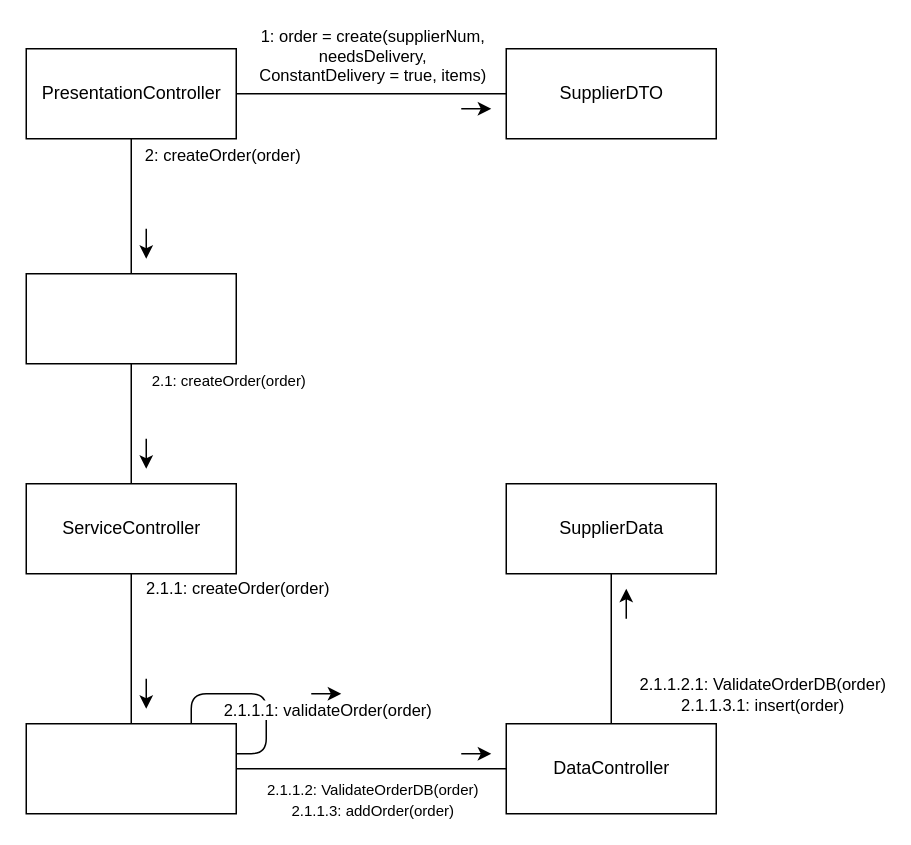
The diagram is 911 pixels wide and 845 high, and some of its shapes have lost their labels. The shapes that lost their labels are listed below. From the top down, each one's box as (x1, y1, x2, y2) in pixels, then its label:
(25, 272, 236, 364): PresentationHandler
(25, 722, 236, 814): SupplierController
